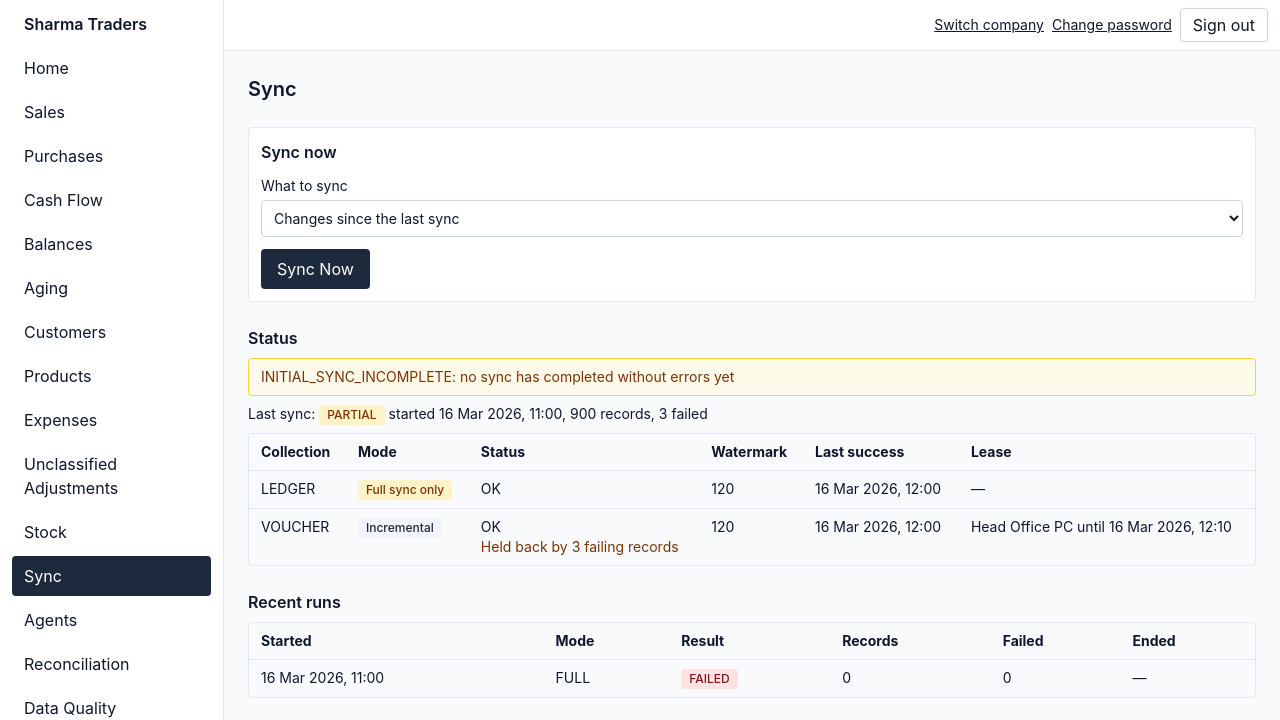
Test case: Sync page › labels a command waiting for an offline Agent (AC-19 UI)
What coordinates should you click on to do the following:
click the button "Sync Now"
I would click on:
 (315, 269)
Its box is [261,249,370,289].
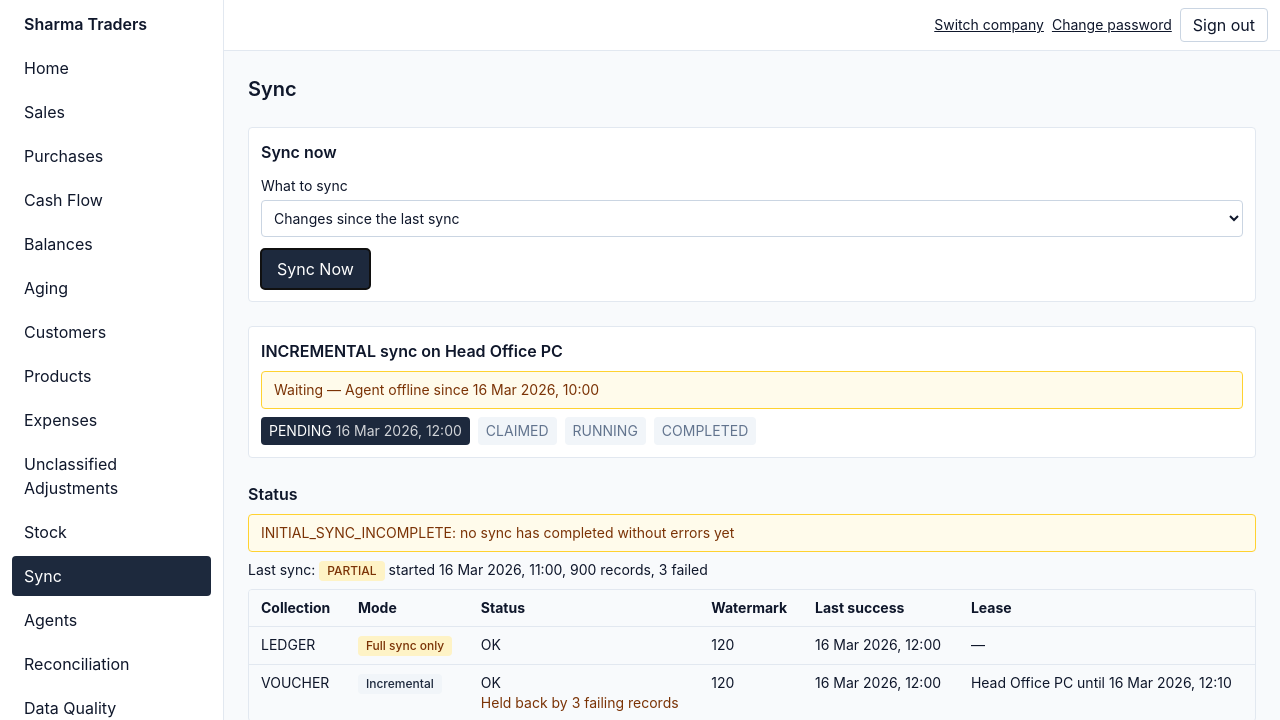
Expected: the text "Waiting — Agent offline since 16 Mar 2026, 10:00" is shown, [261,371,1243,409]
